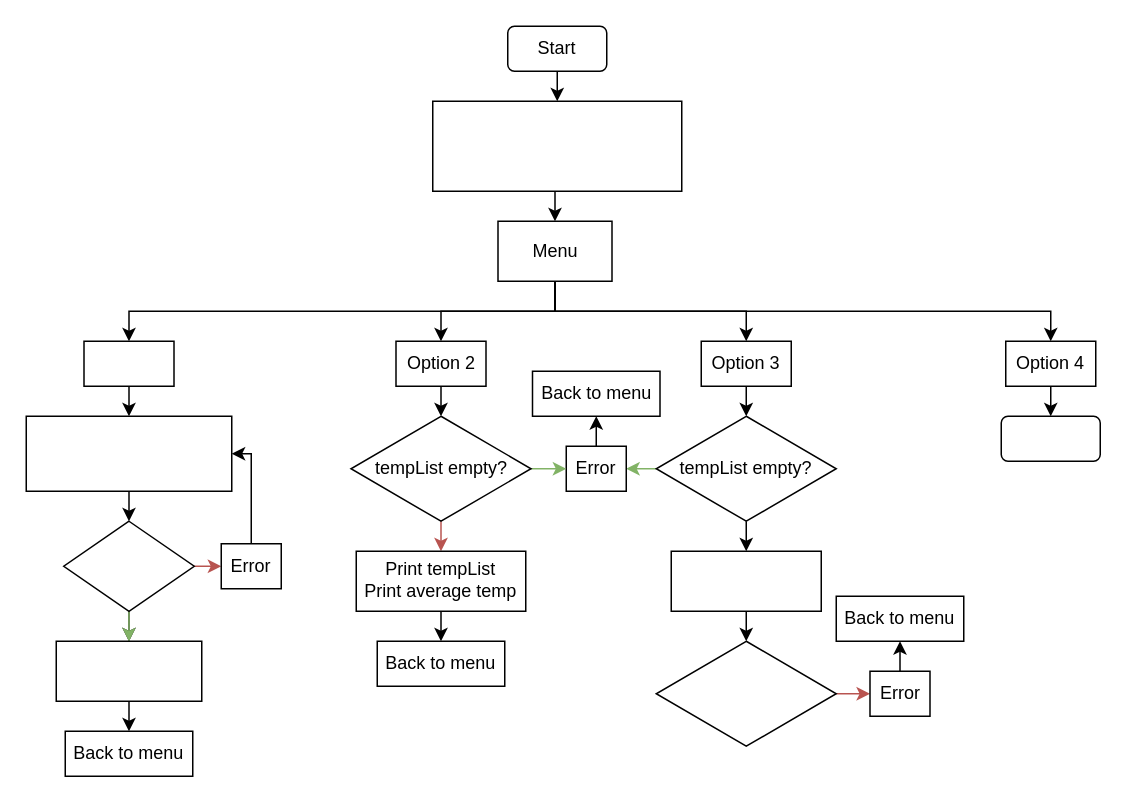
Some shapes in this 1127 by 803 pixel diagram are drawn without their labels. Here are the shapes that lost their labels. From the top down, the centre of each, then its label:
(556,145): bool running = true double[] tempList ConsoleKeyInfo menuInput
(128,363): Option 1
(128,453): Let user add element to tempList
(1050,438): End
(128,565): Valid input?
(745,580): Let user choose index to remove
(128,670): Add element to tempList
(745,693): Does index exist?
